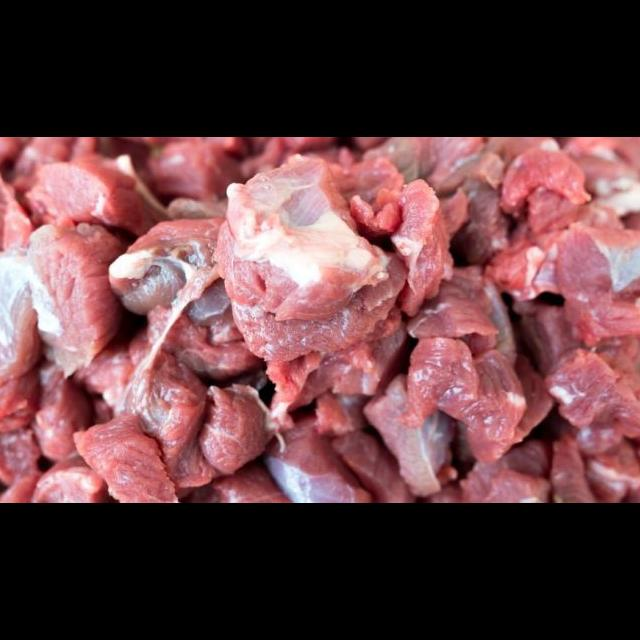beef: (215, 168, 396, 312), (399, 331, 544, 474), (26, 207, 132, 376), (364, 174, 476, 323), (109, 204, 239, 320), (61, 407, 205, 503), (192, 376, 296, 499), (356, 362, 449, 497), (547, 220, 640, 348), (490, 142, 598, 213)
